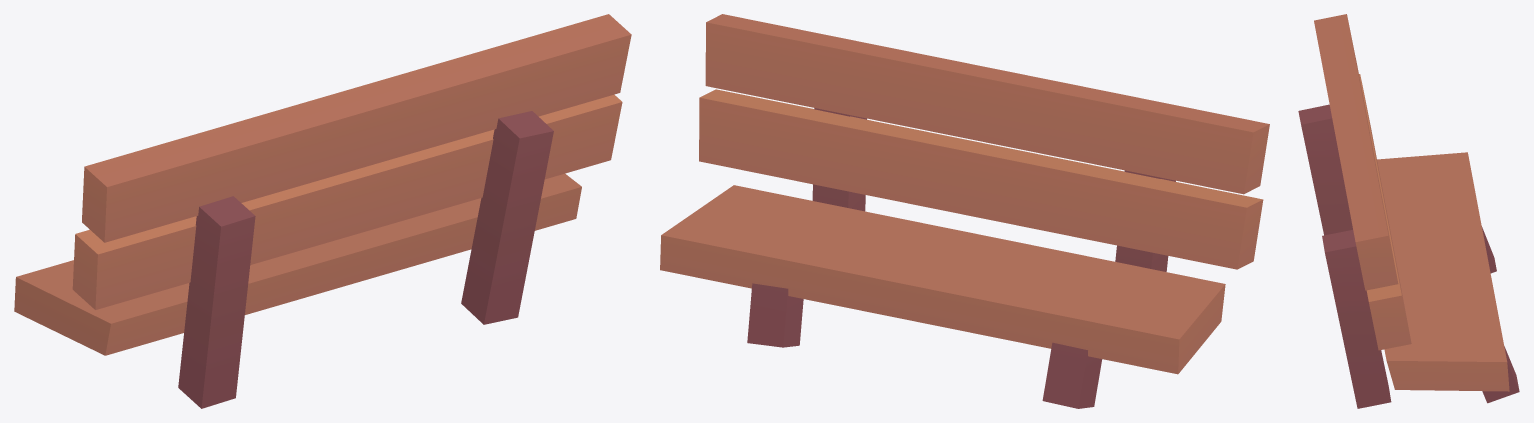
File: village_town_bench.glb
3 views of the same model, side by side, from view 1: azimuth 30°, elevation 25°; view 2: azimuth 150°, elevation 25°; view 3: azimuth 270°, elevation 25° (orthographic). The views are drawn at different scales.
Visible parts, largest first — view 1: Bench.001_Material.005_0; view 2: Bench.001_Material.005_0; view 3: Bench.001_Material.005_0.
Part boxes in pixels (left/top/right/bottom): Bench.001_Material.005_0: left=14, top=14, right=631, bottom=408; Bench.001_Material.005_0: left=660, top=14, right=1269, bottom=408; Bench.001_Material.005_0: left=1298, top=14, right=1519, bottom=408.
Bounding box in the file's own units: 1.43 × 0.6489 × 0.5985.
1 material, 1 textured.
